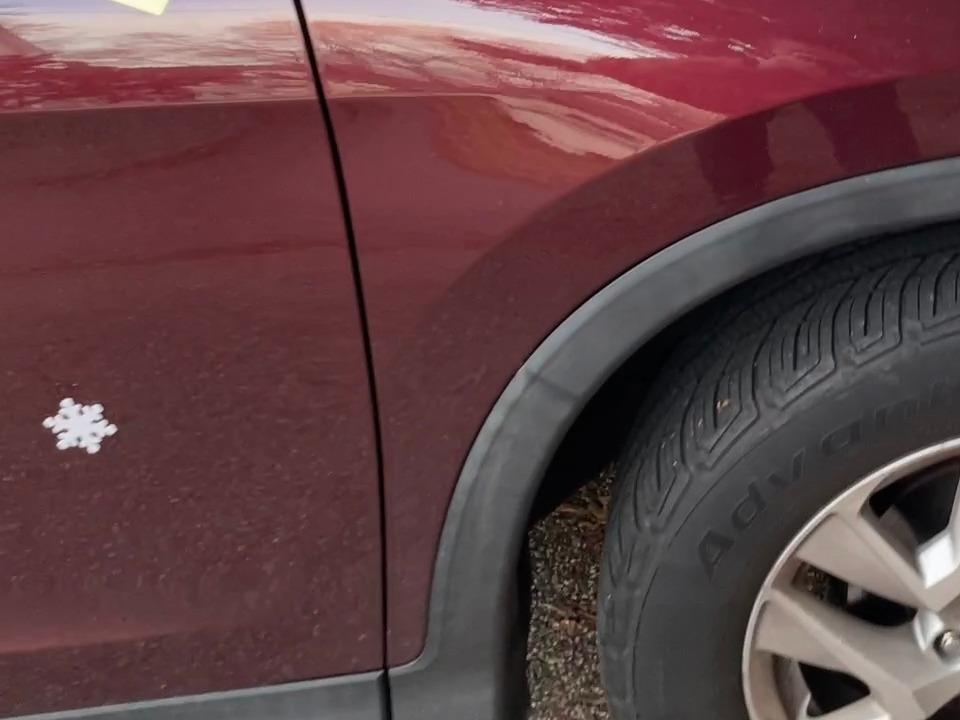dent: (35, 375, 133, 479), (524, 0, 618, 3)
